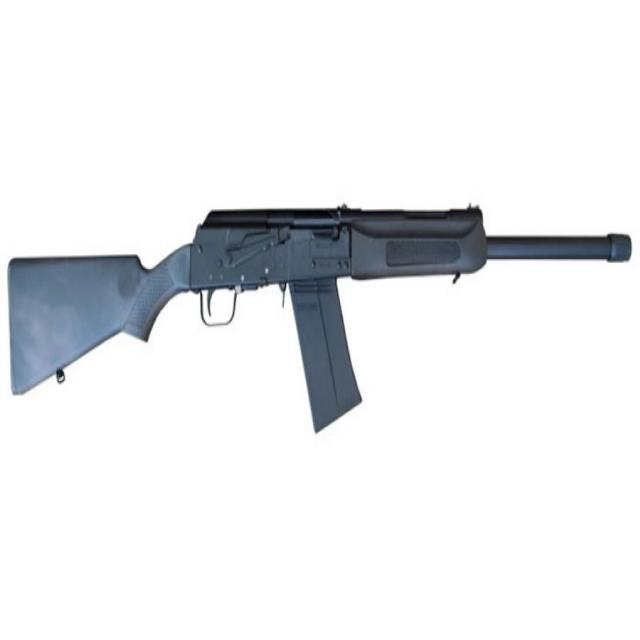heavy-weapon: (8, 200, 632, 437)
